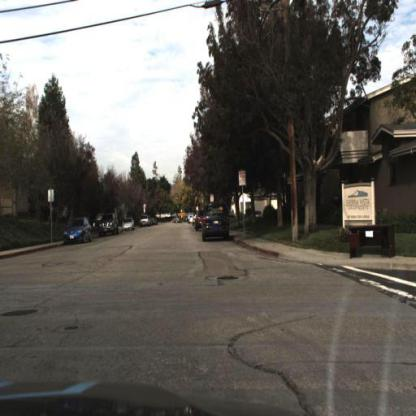car: (201, 200, 228, 246), (61, 213, 95, 249), (63, 218, 98, 246), (96, 213, 119, 242), (121, 218, 137, 235), (139, 214, 153, 232)
